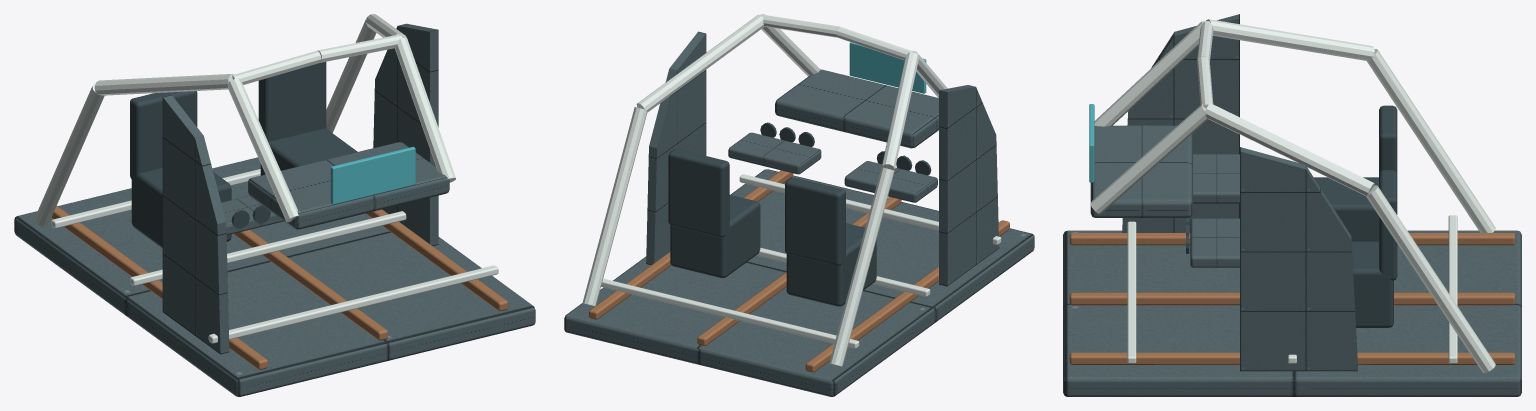
Rendered from wreck-cockpit-section.glb.
3 renders of one model, left to right at view 1: azimuth 30°, elevation 25°; view 2: azimuth 150°, elevation 25°; view 3: azimuth 270°, elevation 25°, orthographic. The views are drawn at different scales.
Visible parts, largest first — view 1: wreck-cockpit-section; view 2: wreck-cockpit-section; view 3: wreck-cockpit-section.
Boxes of the visible parts, x1=… form: wreck-cockpit-section: x1=14, y1=14, x2=535, y2=396; wreck-cockpit-section: x1=564, y1=14, x2=1034, y2=396; wreck-cockpit-section: x1=1063, y1=14, x2=1521, y2=396.
Size of the model in its own units: 2.7 by 2.25 by 3.5.
Materials: 5 (1 with a texture image).
